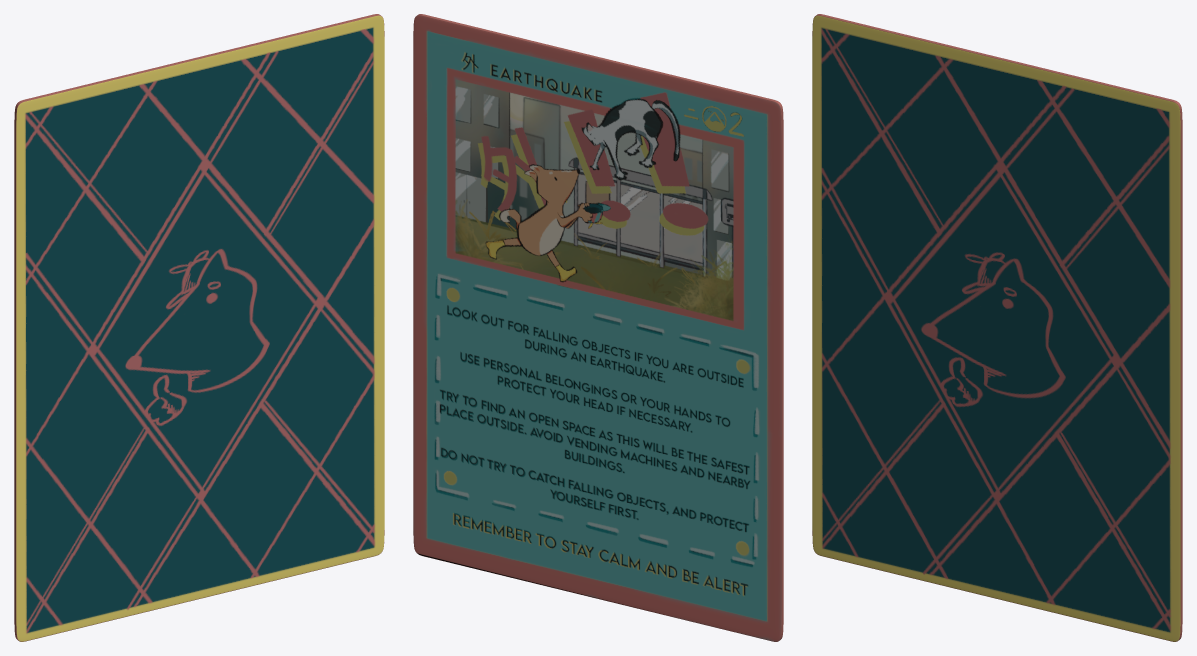
Rendered from Soto_V2.fbx.
3 views of the same model, side by side, from view 1: azimuth 30°, elevation 25°; view 2: azimuth 150°, elevation 25°; view 3: azimuth 330°, elevation 25° (orthographic).
Parts seen in each view (by area): view 1: pCube1; view 2: pCube1; view 3: pCube1.
Boxes of the visible parts, x1,y1,x2,y2 form: pCube1: [14, 14, 384, 641]; pCube1: [413, 14, 783, 641]; pCube1: [812, 14, 1182, 641].
Bounding box in the file's own units: 2.5 × 3.5 × 0.025.
Materials: 3 (3 with a texture image).
